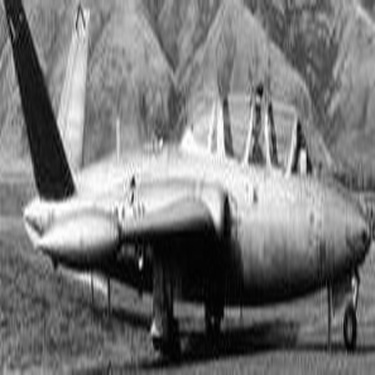airplane: (2, 7, 373, 369)
